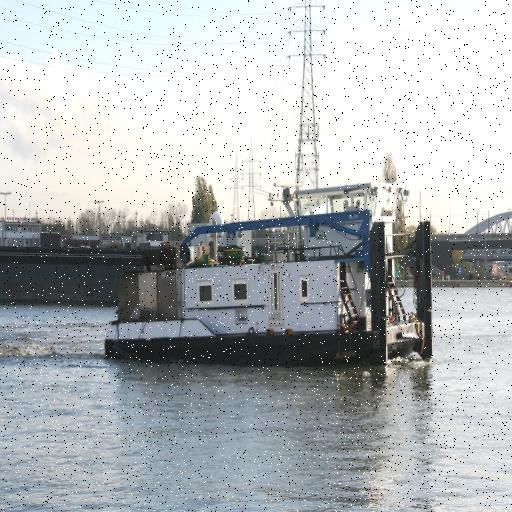tugboat: (102, 185, 437, 374)
